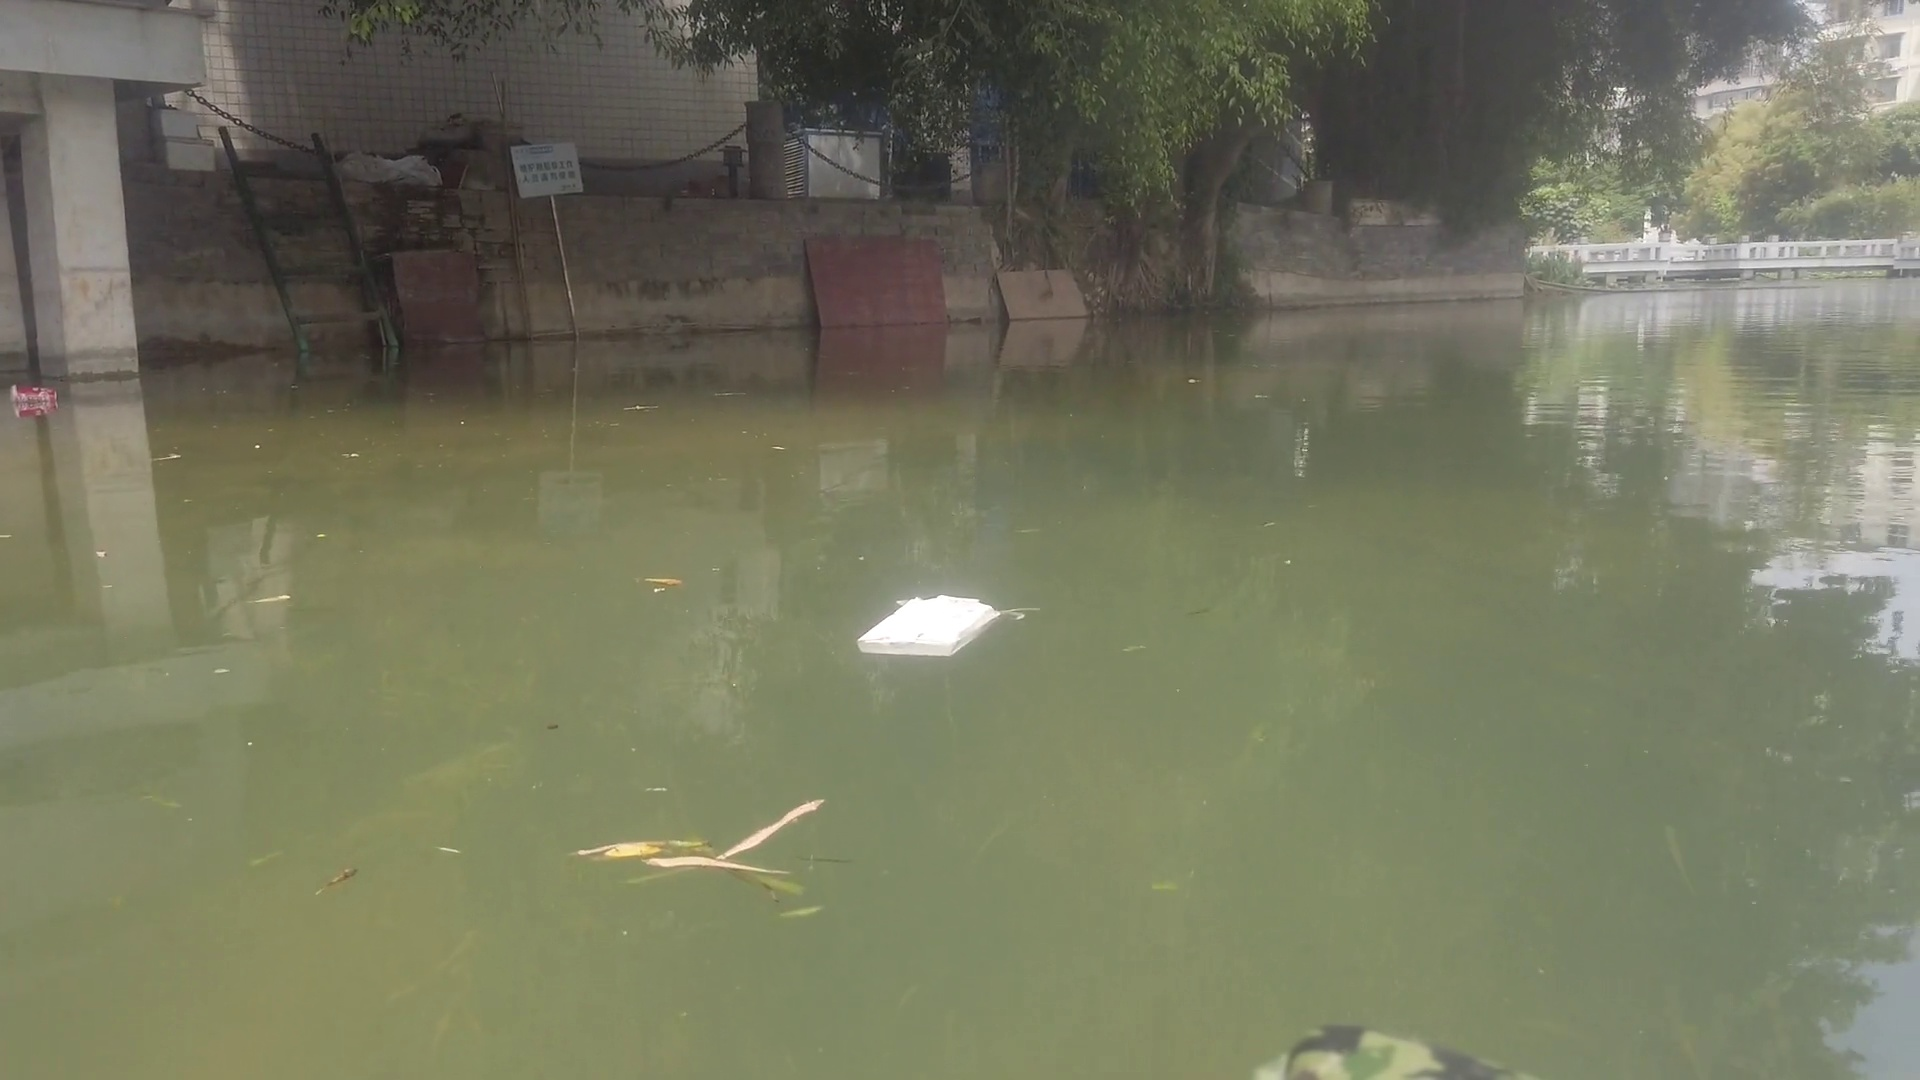bottle: (7, 378, 65, 406)
paper: (868, 579, 996, 665)
